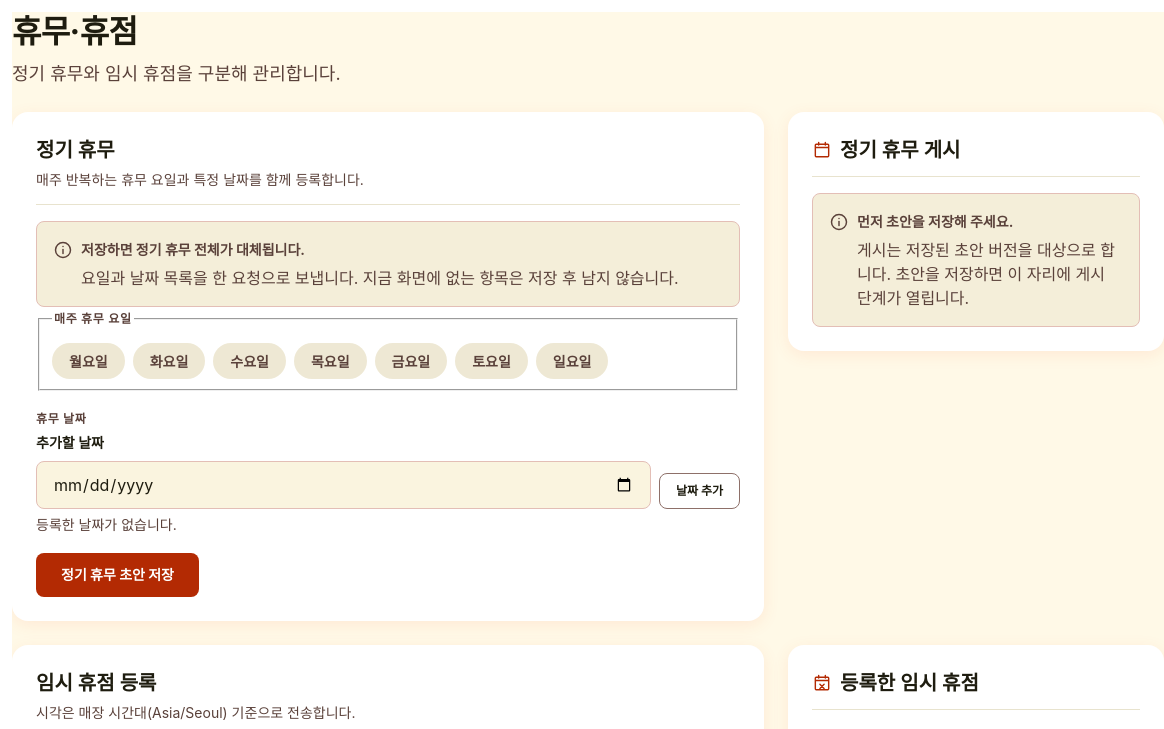
Test case: 휴무·휴점 화면 › 정기 휴무 게시 충돌은 서버 코드로 안내한다
The width and height of the screenshot is (1164, 729).
Click the button "정기 휴무 초안 저장". click: (118, 575)
box: x1=36 y1=553 x2=199 y2=597
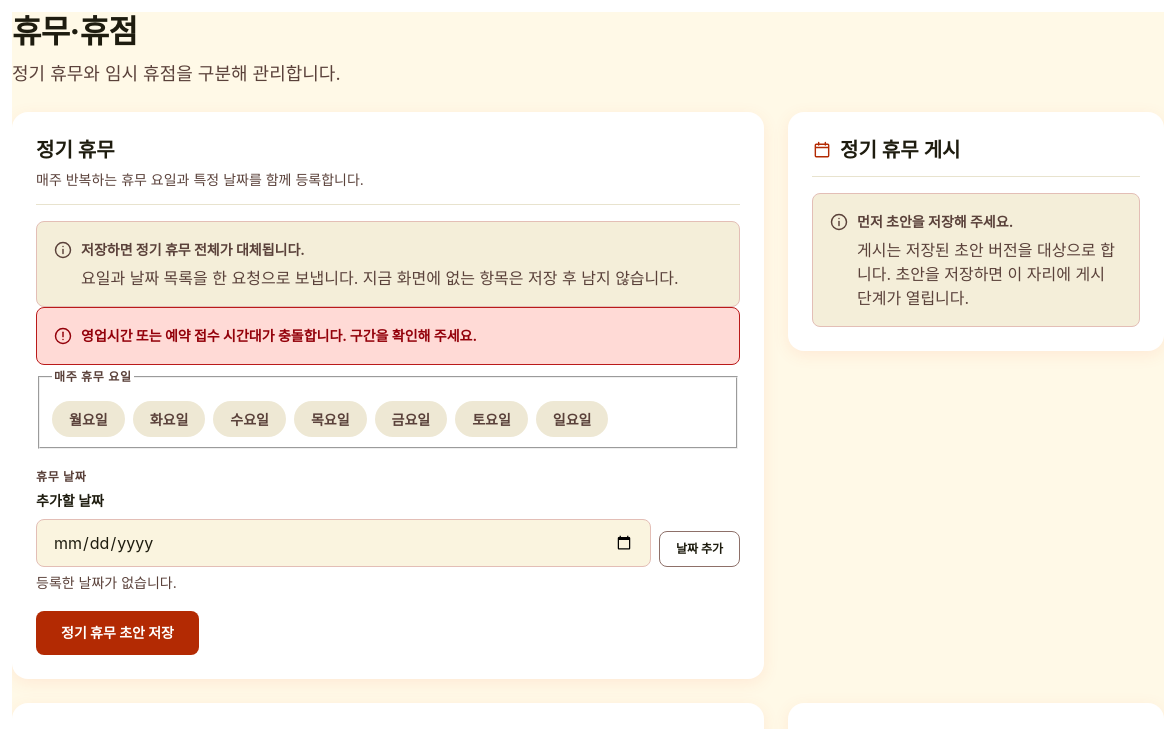
Expected: the text "영업시간 또는 예약 접수 시간대가 충돌합니다. 구간을 확인해 주세요." is shown, x1=81 y1=327 x2=477 y2=344
